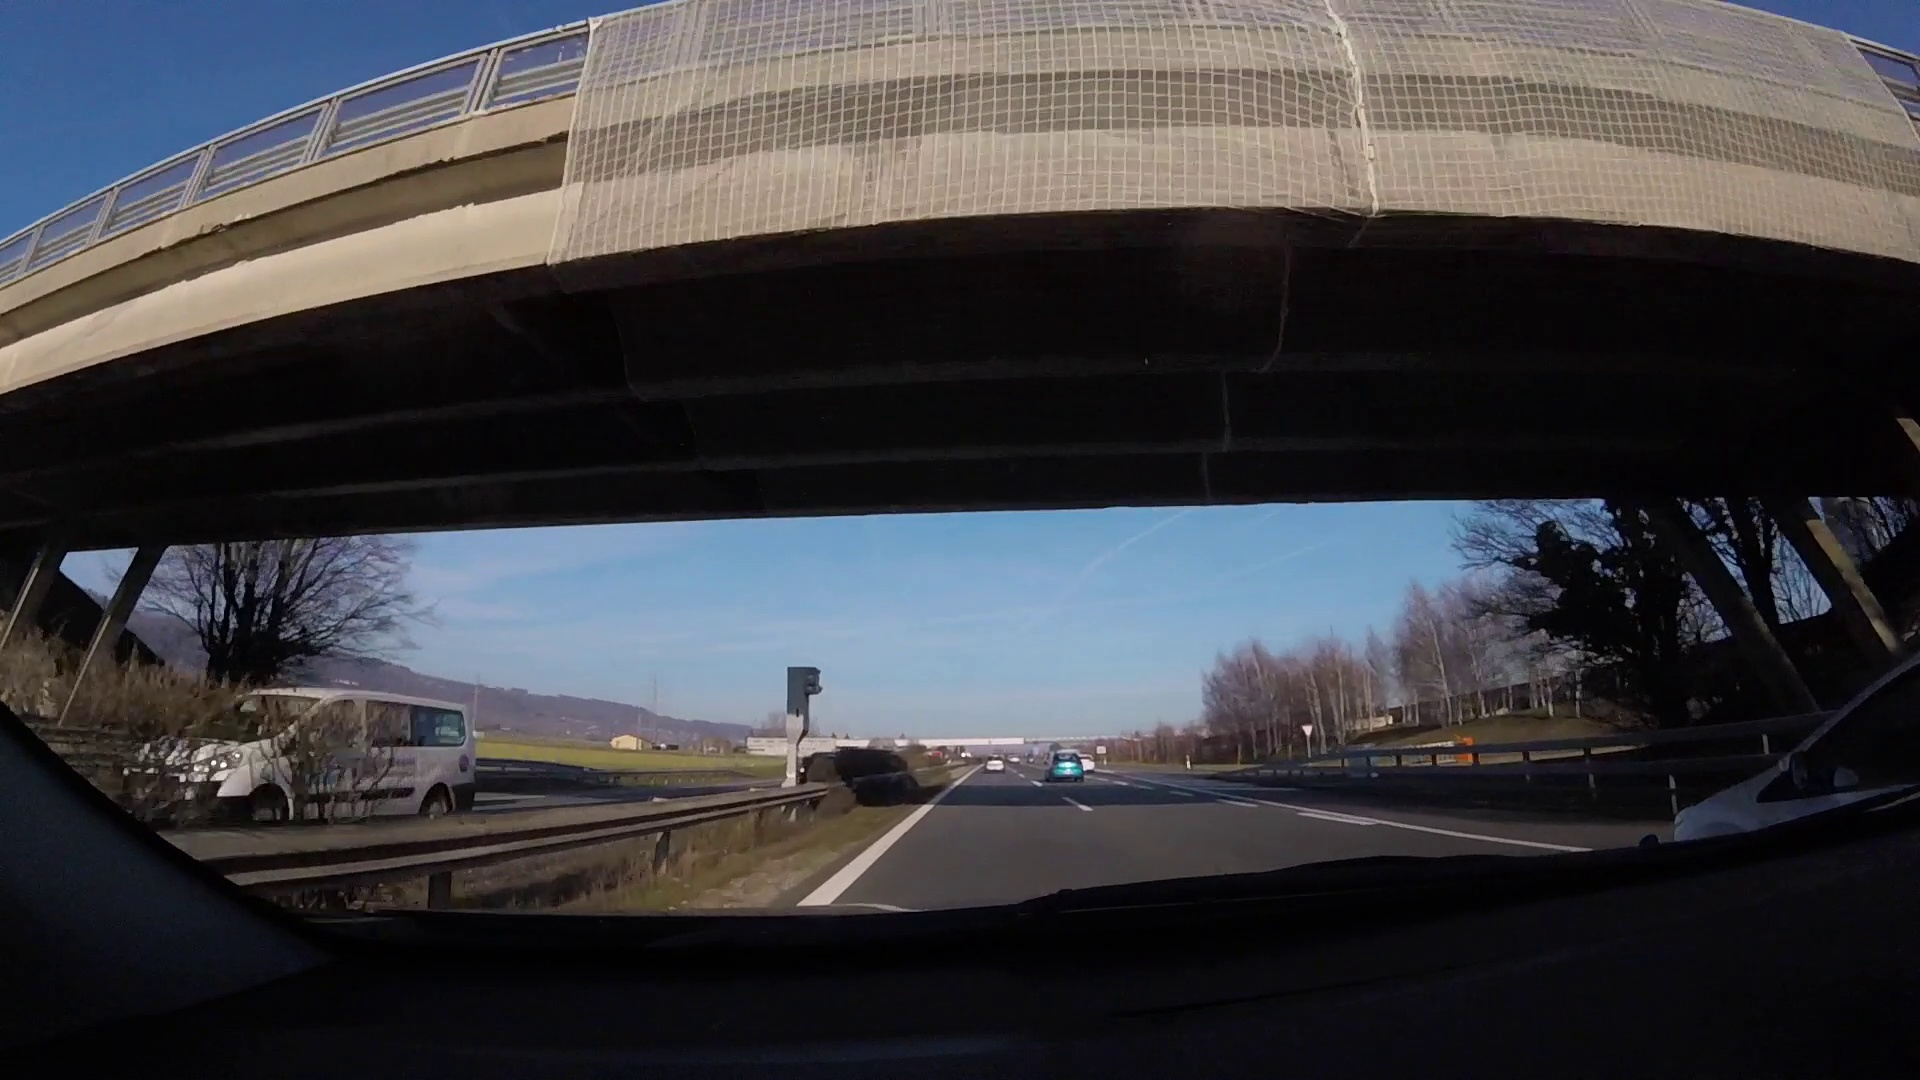radar: (785, 665, 825, 779)
